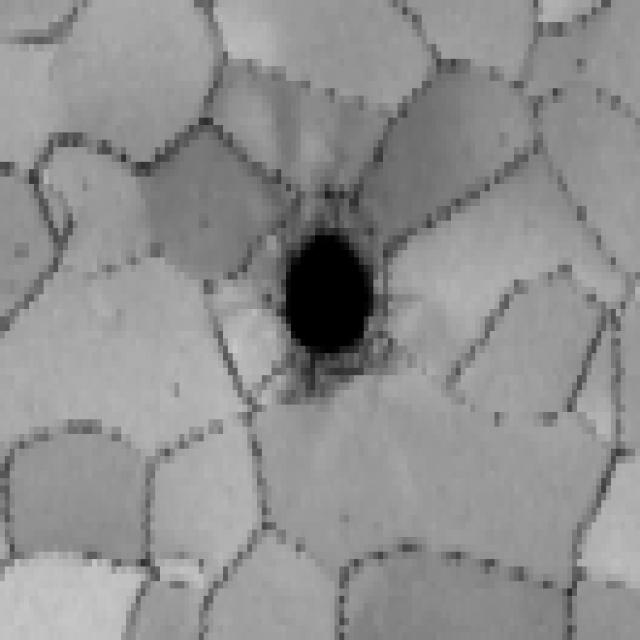good_void: (259, 200, 410, 406)
